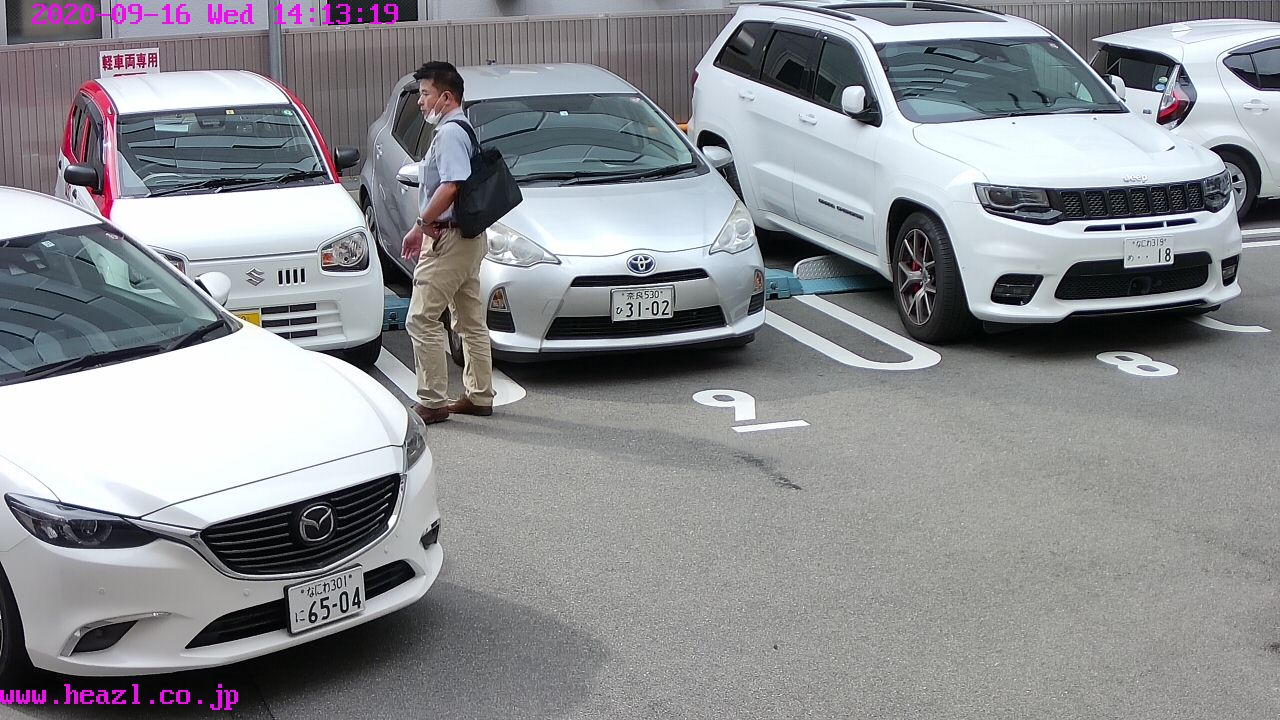number_plate: (291, 575, 361, 619), (613, 288, 673, 319), (1122, 235, 1176, 267)
